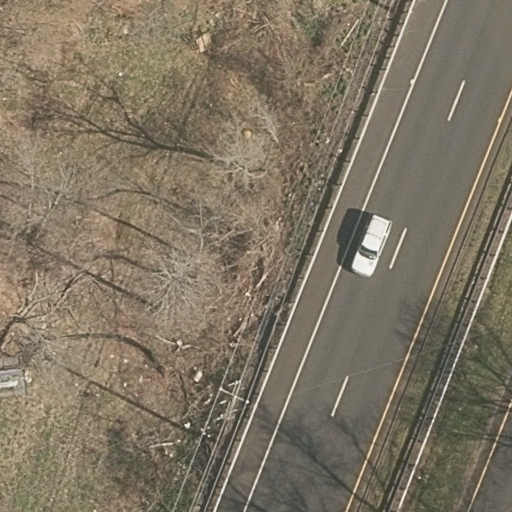DT: (206, 374, 256, 430)
